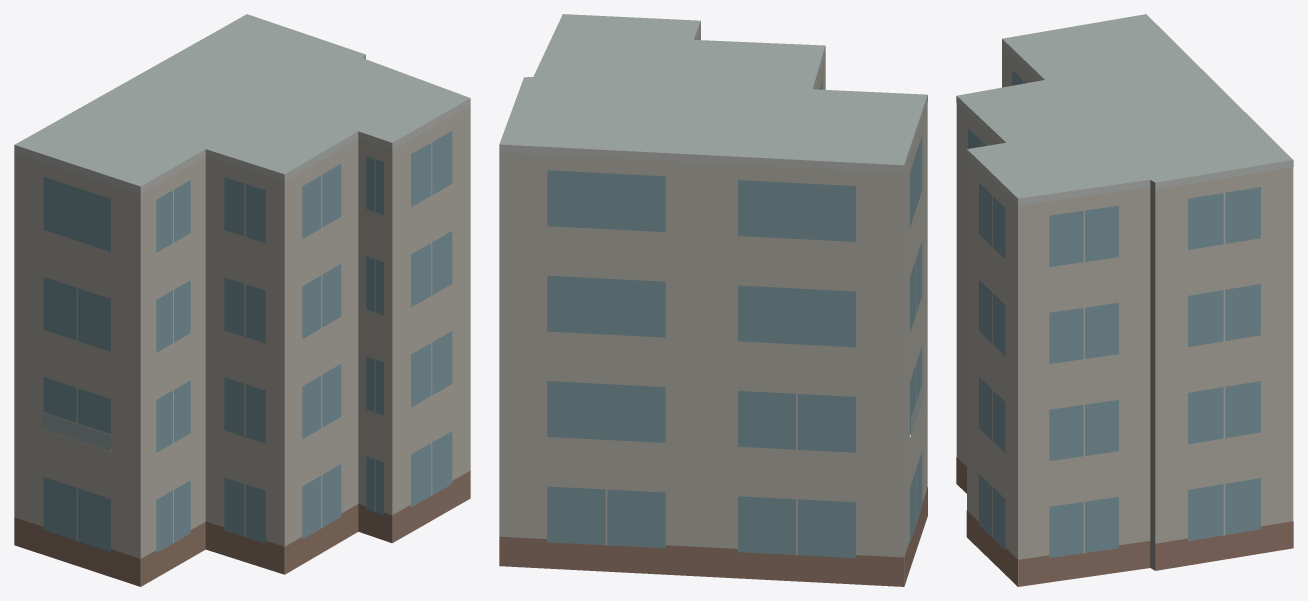
File: survey-upis-33030523.glb
The picture shows the model from 3 angles, left to right: view 1: azimuth 30°, elevation 25°; view 2: azimuth 150°, elevation 25°; view 3: azimuth 270°, elevation 25°; orthographic projection. The views are drawn at different scales.
Parts seen in each view (by area): view 1: survey-upis-33030523.tmp; view 2: survey-upis-33030523.tmp; view 3: survey-upis-33030523.tmp.
Part boxes in pixels (<box>): survey-upis-33030523.tmp: <box>14,14,470,586</box>; survey-upis-33030523.tmp: <box>499,14,927,586</box>; survey-upis-33030523.tmp: <box>956,14,1293,586</box>.
Bounding box in the file's own units: 13.78 × 13.5 × 10.63.
